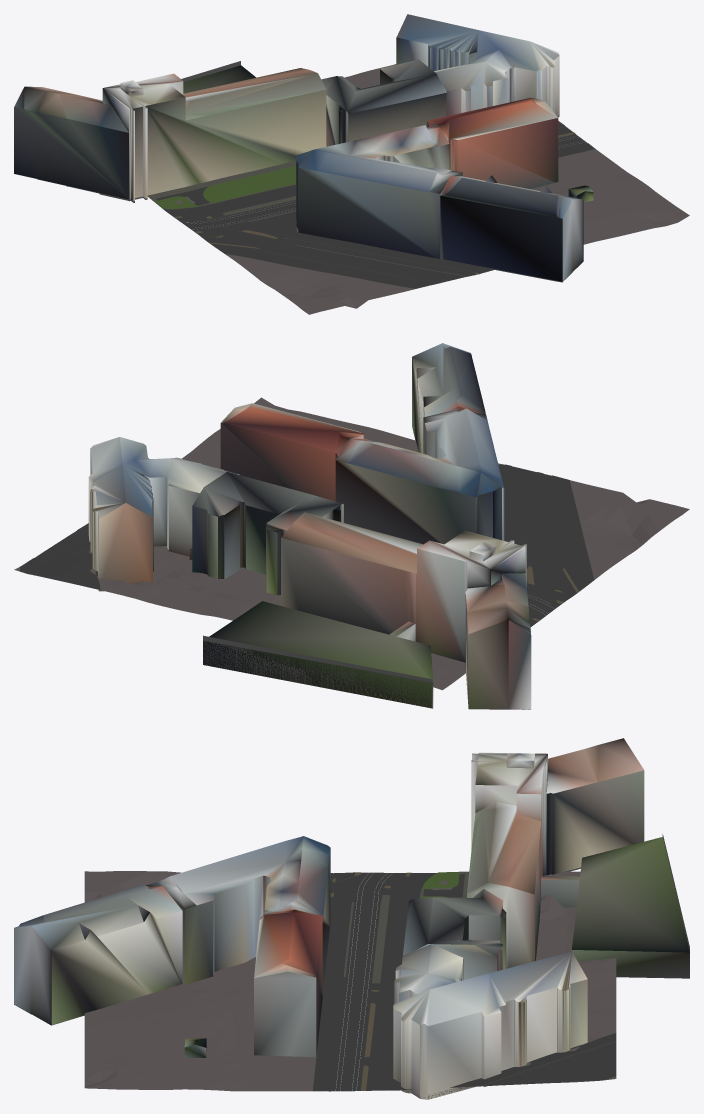
3 views of the same model, one above another, from view 1: azimuth 30°, elevation 25°; view 2: azimuth 150°, elevation 25°; view 3: azimuth 270°, elevation 25° (orthographic). The views are drawn at different scales.
Visible parts, largest first — view 1: c_m12_m02; view 2: c_m12_m02; view 3: c_m12_m02.
Boxes of the visible parts, x1,y1,x2,y2 form: c_m12_m02: [14, 14, 689, 314]; c_m12_m02: [14, 343, 689, 709]; c_m12_m02: [14, 738, 689, 1099].
Size of the model in its own units: 157 by 33.67 by 163.
